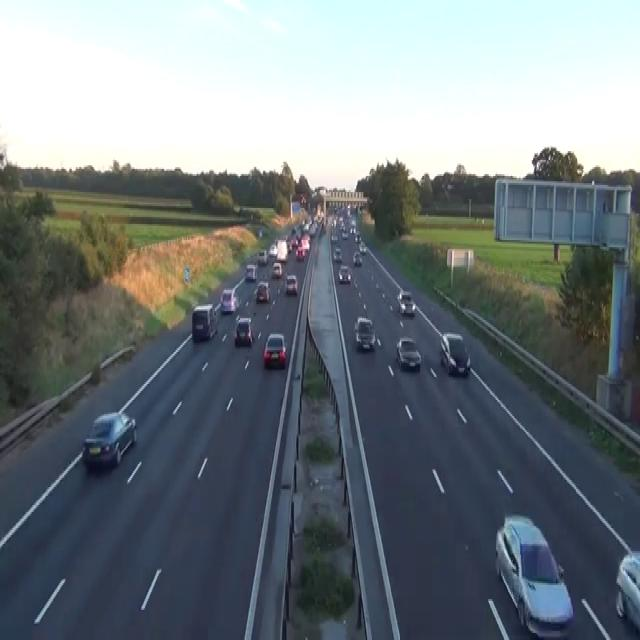Car: (494, 514, 573, 638), (82, 410, 137, 468), (615, 549, 639, 633), (439, 331, 471, 375), (396, 336, 421, 372), (263, 332, 286, 368), (354, 316, 375, 351), (233, 316, 253, 346), (396, 290, 416, 314), (220, 288, 237, 313), (254, 281, 270, 302), (284, 274, 298, 295), (338, 265, 351, 283), (245, 263, 257, 281), (271, 262, 282, 278), (257, 249, 268, 265), (300, 234, 310, 250), (333, 246, 342, 262), (295, 246, 304, 262), (268, 242, 277, 258), (352, 251, 362, 265), (358, 240, 366, 254), (308, 224, 316, 236), (354, 231, 361, 242), (314, 244, 318, 263), (330, 233, 338, 242), (286, 240, 292, 252), (341, 230, 348, 238), (258, 228, 262, 236)
Truck: (191, 303, 217, 342)
